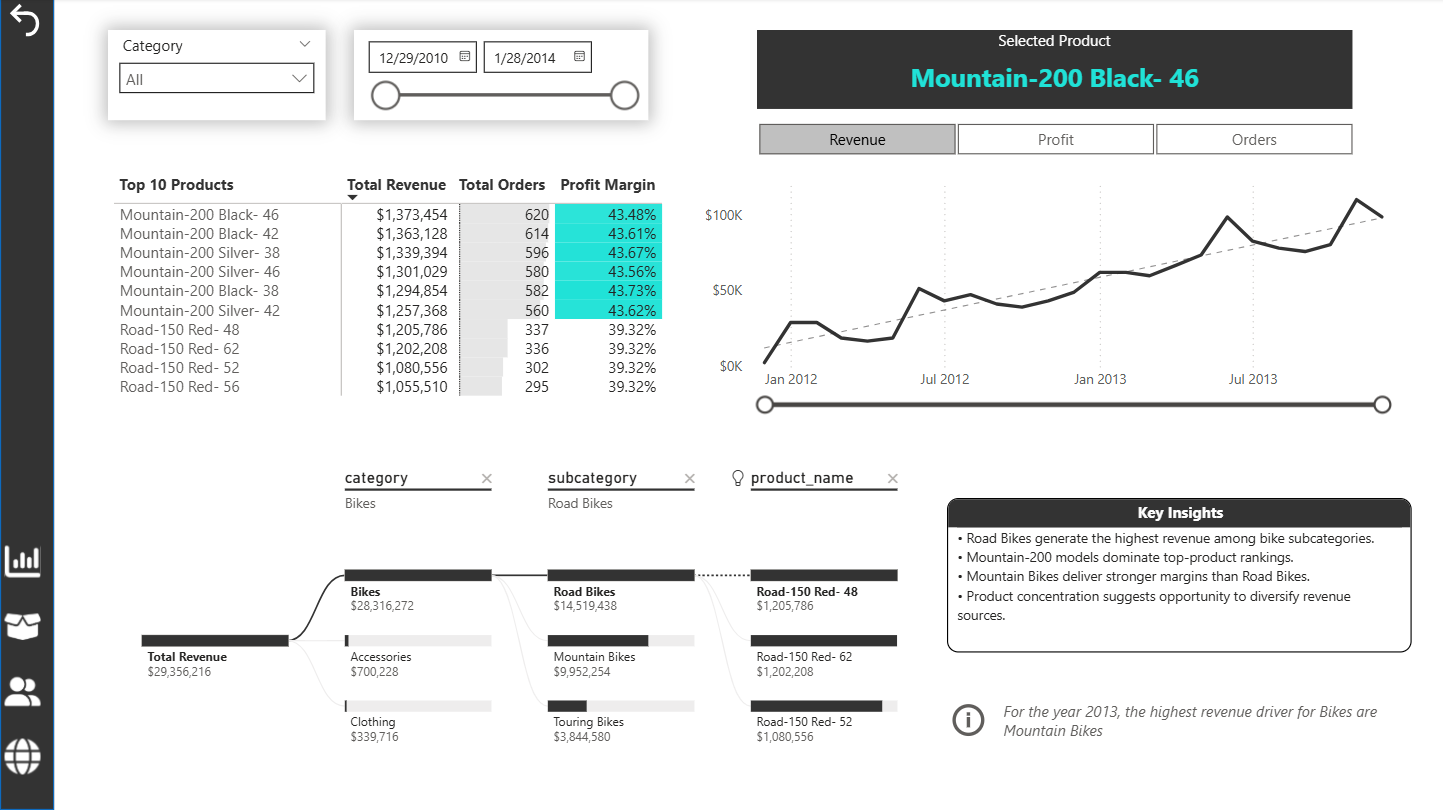

The page's visual inventory and layout, read from the dashboard file:
{"tool":"powerbi","page":{"name":"Product Dashboard","canvas":[1280,720],"ordinal":1},"visuals":[{"type":"shape","box":[0,0,48,720],"z":0},{"type":"pivotTable","fields":{"Rows":["dim_products.product_name"],"Values":["Measure Table.Total Revenue","Measure Table.Total Orders","Measure Table.Profit Margin"]},"box":[95.8,151.6,507.8,220.5],"z":1000},{"type":"actionButton","box":[0,480,48.2,40],"z":1000,"group":"g1"},{"type":"decompositionTreeVisual","fields":{"Analyze":["Measure Table.Total Revenue"],"ExplainBy":["dim_products.category","dim_products.subcategory","dim_products.product_name"]},"box":[96,400,744,272],"z":2000},{"type":"slicer","fields":{"Values":["dim_products.category","dim_products.subcategory"]},"box":[95.8,27.9,192.5,79.8],"z":3000},{"type":"slicer","fields":{"Values":["Product Metric Selection.Product Metric Selection"]},"box":[647.1,104.9,576,40],"z":4000},{"type":"actionButton","box":[0.1,537.4,48,40.3],"z":4000,"group":"g1"},{"type":"lineChart","fields":{"Category":["dim_calendar.Date Hierarchy.Start of Year","dim_calendar.Date Hierarchy.Start of Quarter","dim_calendar.Date Hierarchy.Start of Month","dim_calendar.Date Hierarchy.Start of Week"],"Y":["Measure Table.Total Revenue"]},"box":[619.5,151.6,632.5,220.5],"z":5000},{"type":"actionButton","box":[0,595.2,48.2,40],"z":5000,"group":"g1"},{"type":"card","title":"Selected Product","fields":{"Values":["Min(dim_products.product_name)"]},"box":[671.4,27.9,527.8,69.8],"z":6000},{"type":"slicer","fields":{"Values":["dim_calendar.Date"]},"box":[314.3,27.9,261.4,79.8],"z":7000},{"type":"textbox","title":"Key Insights","box":[840,443,412,136.7],"z":8000},{"type":"actionButton","box":[840,616.6,412,48.9],"z":9000},{"type":"actionButton","box":[2.4,0,45.8,38.8],"z":10000},{"type":"group","id":"g1","title":"Navigation Buttons","box":[0,480,48.2,212.5],"z":11000},{"type":"actionButton","box":[0.1,652.6,47.9,39.9],"z":17000,"group":"g1"}]}

Visuals, with their boxes on the page's 1280x720 design canvas (x1, y1, x2, y2). These are canvas units, not pixel positions in the 1443x810 screenshot, which may show the page scaled, cropped or inside an application window:
shape: [x1=0, y1=0, x2=48, y2=720]
pivotTable - dim_products.product_name x Measure Table.Total Revenue: [x1=96, y1=152, x2=604, y2=372]
actionButton: [x1=0, y1=480, x2=48, y2=520]
decompositionTreeVisual - Measure Table.Total Revenue x dim_products.category: [x1=96, y1=400, x2=840, y2=672]
slicer - dim_products.category x dim_products.subcategory: [x1=96, y1=28, x2=288, y2=108]
slicer - Product Metric Selection.Product Metric Selection: [x1=647, y1=105, x2=1223, y2=145]
actionButton: [x1=0, y1=537, x2=48, y2=578]
lineChart - dim_calendar.Date Hierarchy.Start of Year x dim_calendar.Date Hierarchy.Start of Quarter: [x1=620, y1=152, x2=1252, y2=372]
actionButton: [x1=0, y1=595, x2=48, y2=635]
"Selected Product" card: [x1=671, y1=28, x2=1199, y2=98]
slicer - dim_calendar.Date: [x1=314, y1=28, x2=576, y2=108]
"Key Insights" textbox: [x1=840, y1=443, x2=1252, y2=580]
actionButton: [x1=840, y1=617, x2=1252, y2=666]
actionButton: [x1=2, y1=0, x2=48, y2=39]
"Navigation Buttons" group: [x1=0, y1=480, x2=48, y2=692]
actionButton: [x1=0, y1=653, x2=48, y2=692]
